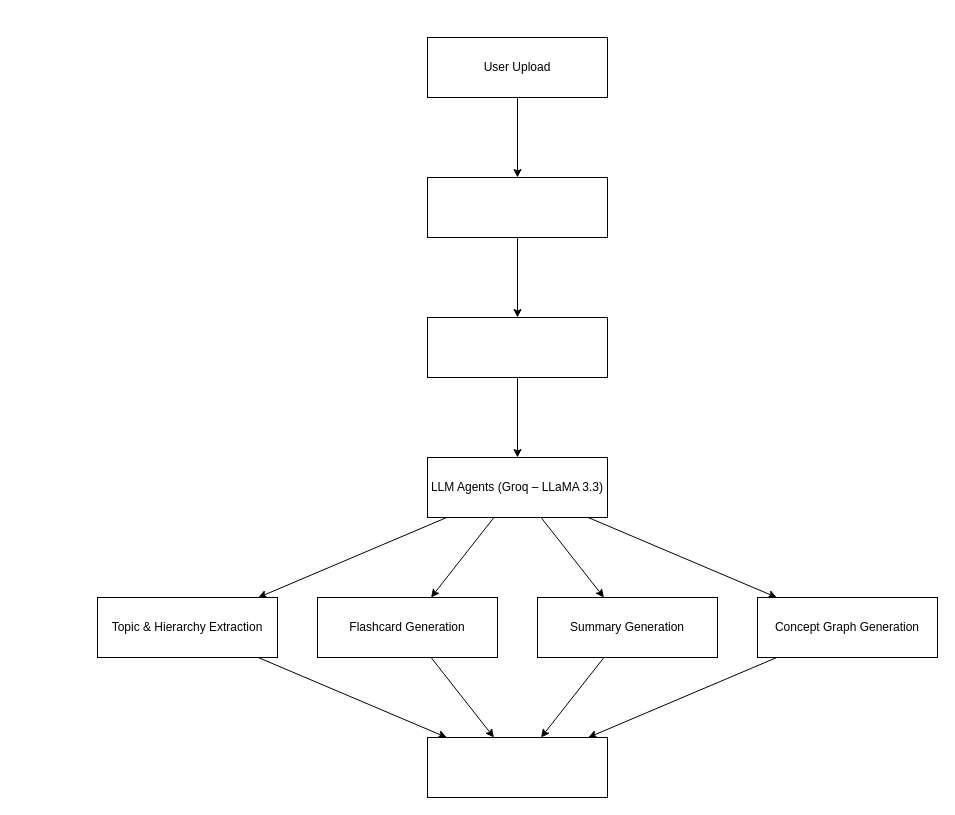
This 955x815 diagram has some shape labels left out. Here are the shapes that lost their labels. From the top down, the centre of each, then its label:
the point at 517,207: Multi-Source Loaders (PDF / DOCX / TXT / MP4)
the point at 517,347: Text Extraction
the point at 517,767: Structured Outputs (JSON / CSV / Markdown)
